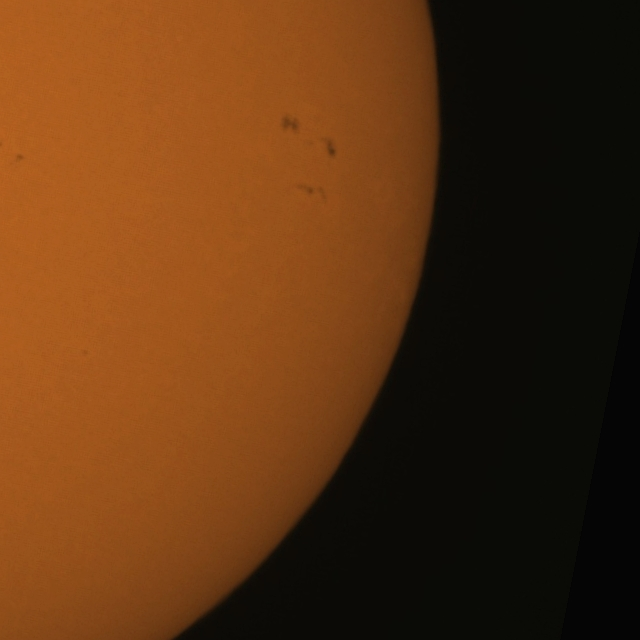sunspot: (296, 182, 328, 201), (280, 113, 300, 135), (321, 136, 338, 160), (14, 152, 25, 164)
